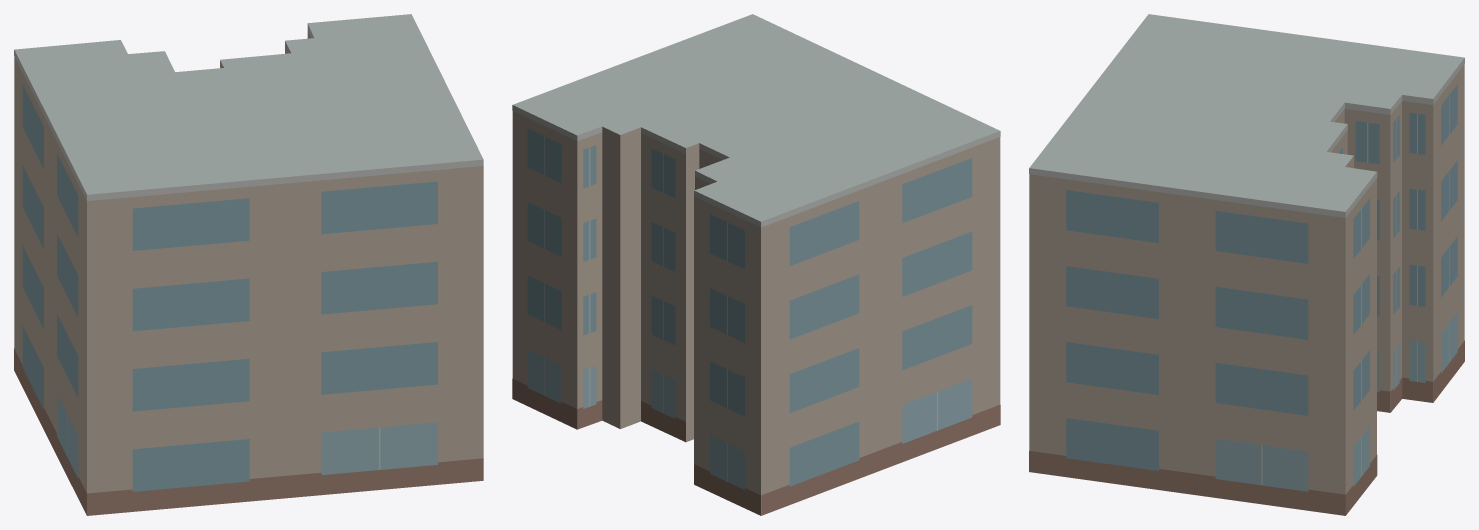
The model's file is survey-upis-33029715.glb.
The picture shows the model from 3 angles, left to right: view 1: azimuth 30°, elevation 25°; view 2: azimuth 150°, elevation 25°; view 3: azimuth 270°, elevation 25°; orthographic projection. The views are drawn at different scales.
Parts seen in each view (by area): view 1: survey-upis-33029715.tmp; view 2: survey-upis-33029715.tmp; view 3: survey-upis-33029715.tmp.
Boxes of the visible parts, x1,y1,x2,y2 form: survey-upis-33029715.tmp: [14, 14, 483, 515]; survey-upis-33029715.tmp: [512, 14, 1000, 515]; survey-upis-33029715.tmp: [1029, 14, 1464, 515].
Bounding box in the file's own units: 17.25 × 12.34 × 16.04.
